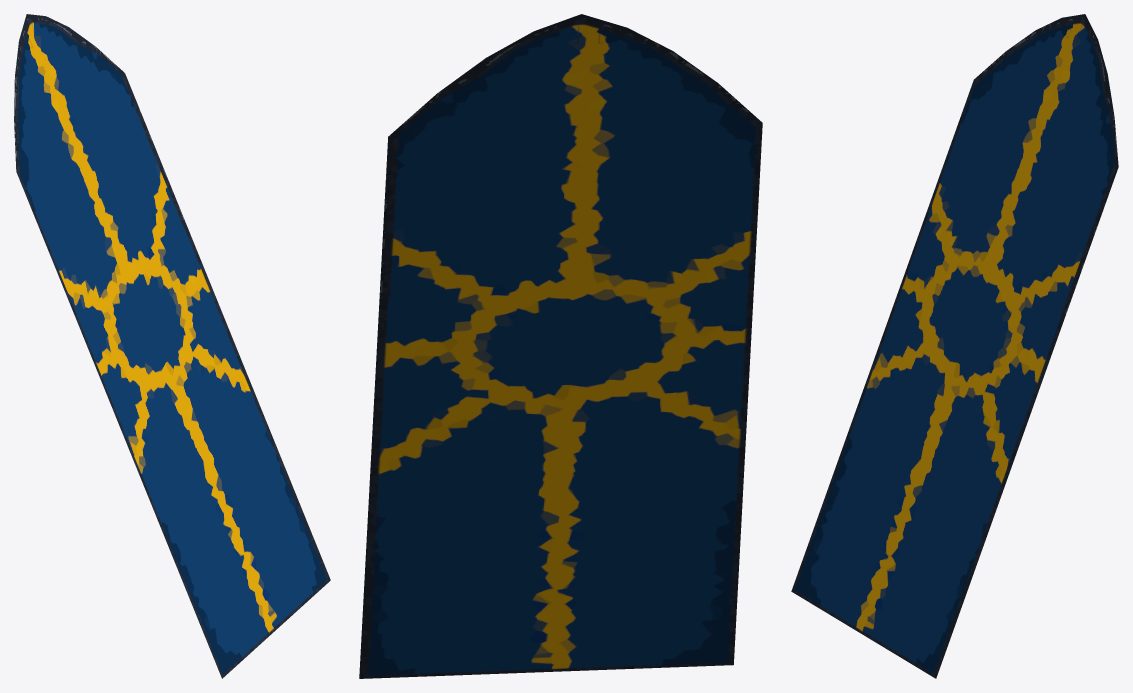
The model's file is window_manor_alt_glass.fbx.
3 views of the same model, side by side, from view 1: azimuth 30°, elevation 25°; view 2: azimuth 150°, elevation 25°; view 3: azimuth 270°, elevation 25° (orthographic). The views are drawn at different scales.
Parts seen in each view (by area): view 1: Cube.018; view 2: Cube.018; view 3: Cube.018.
Boxes of the visible parts, x1=… form: Cube.018: x1=14, y1=14, x2=330, y2=678; Cube.018: x1=359, y1=14, x2=762, y2=678; Cube.018: x1=791, y1=14, x2=1118, y2=678.
Bounding box in the file's own units: 483 × 885 × 473.
